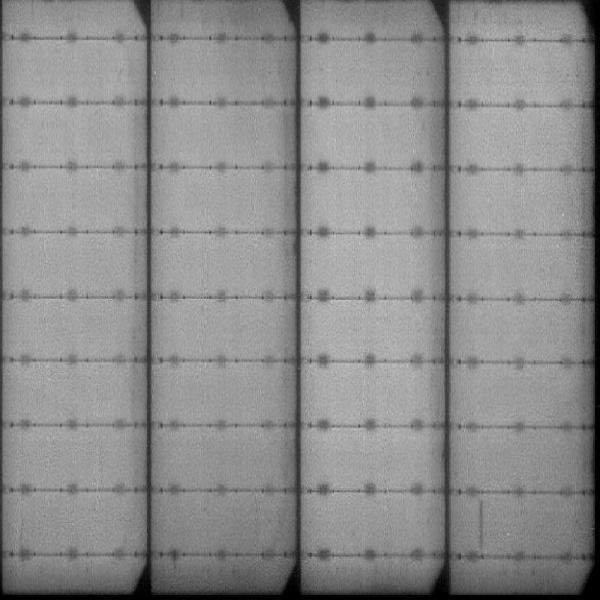scratch: (476, 493, 489, 556)
